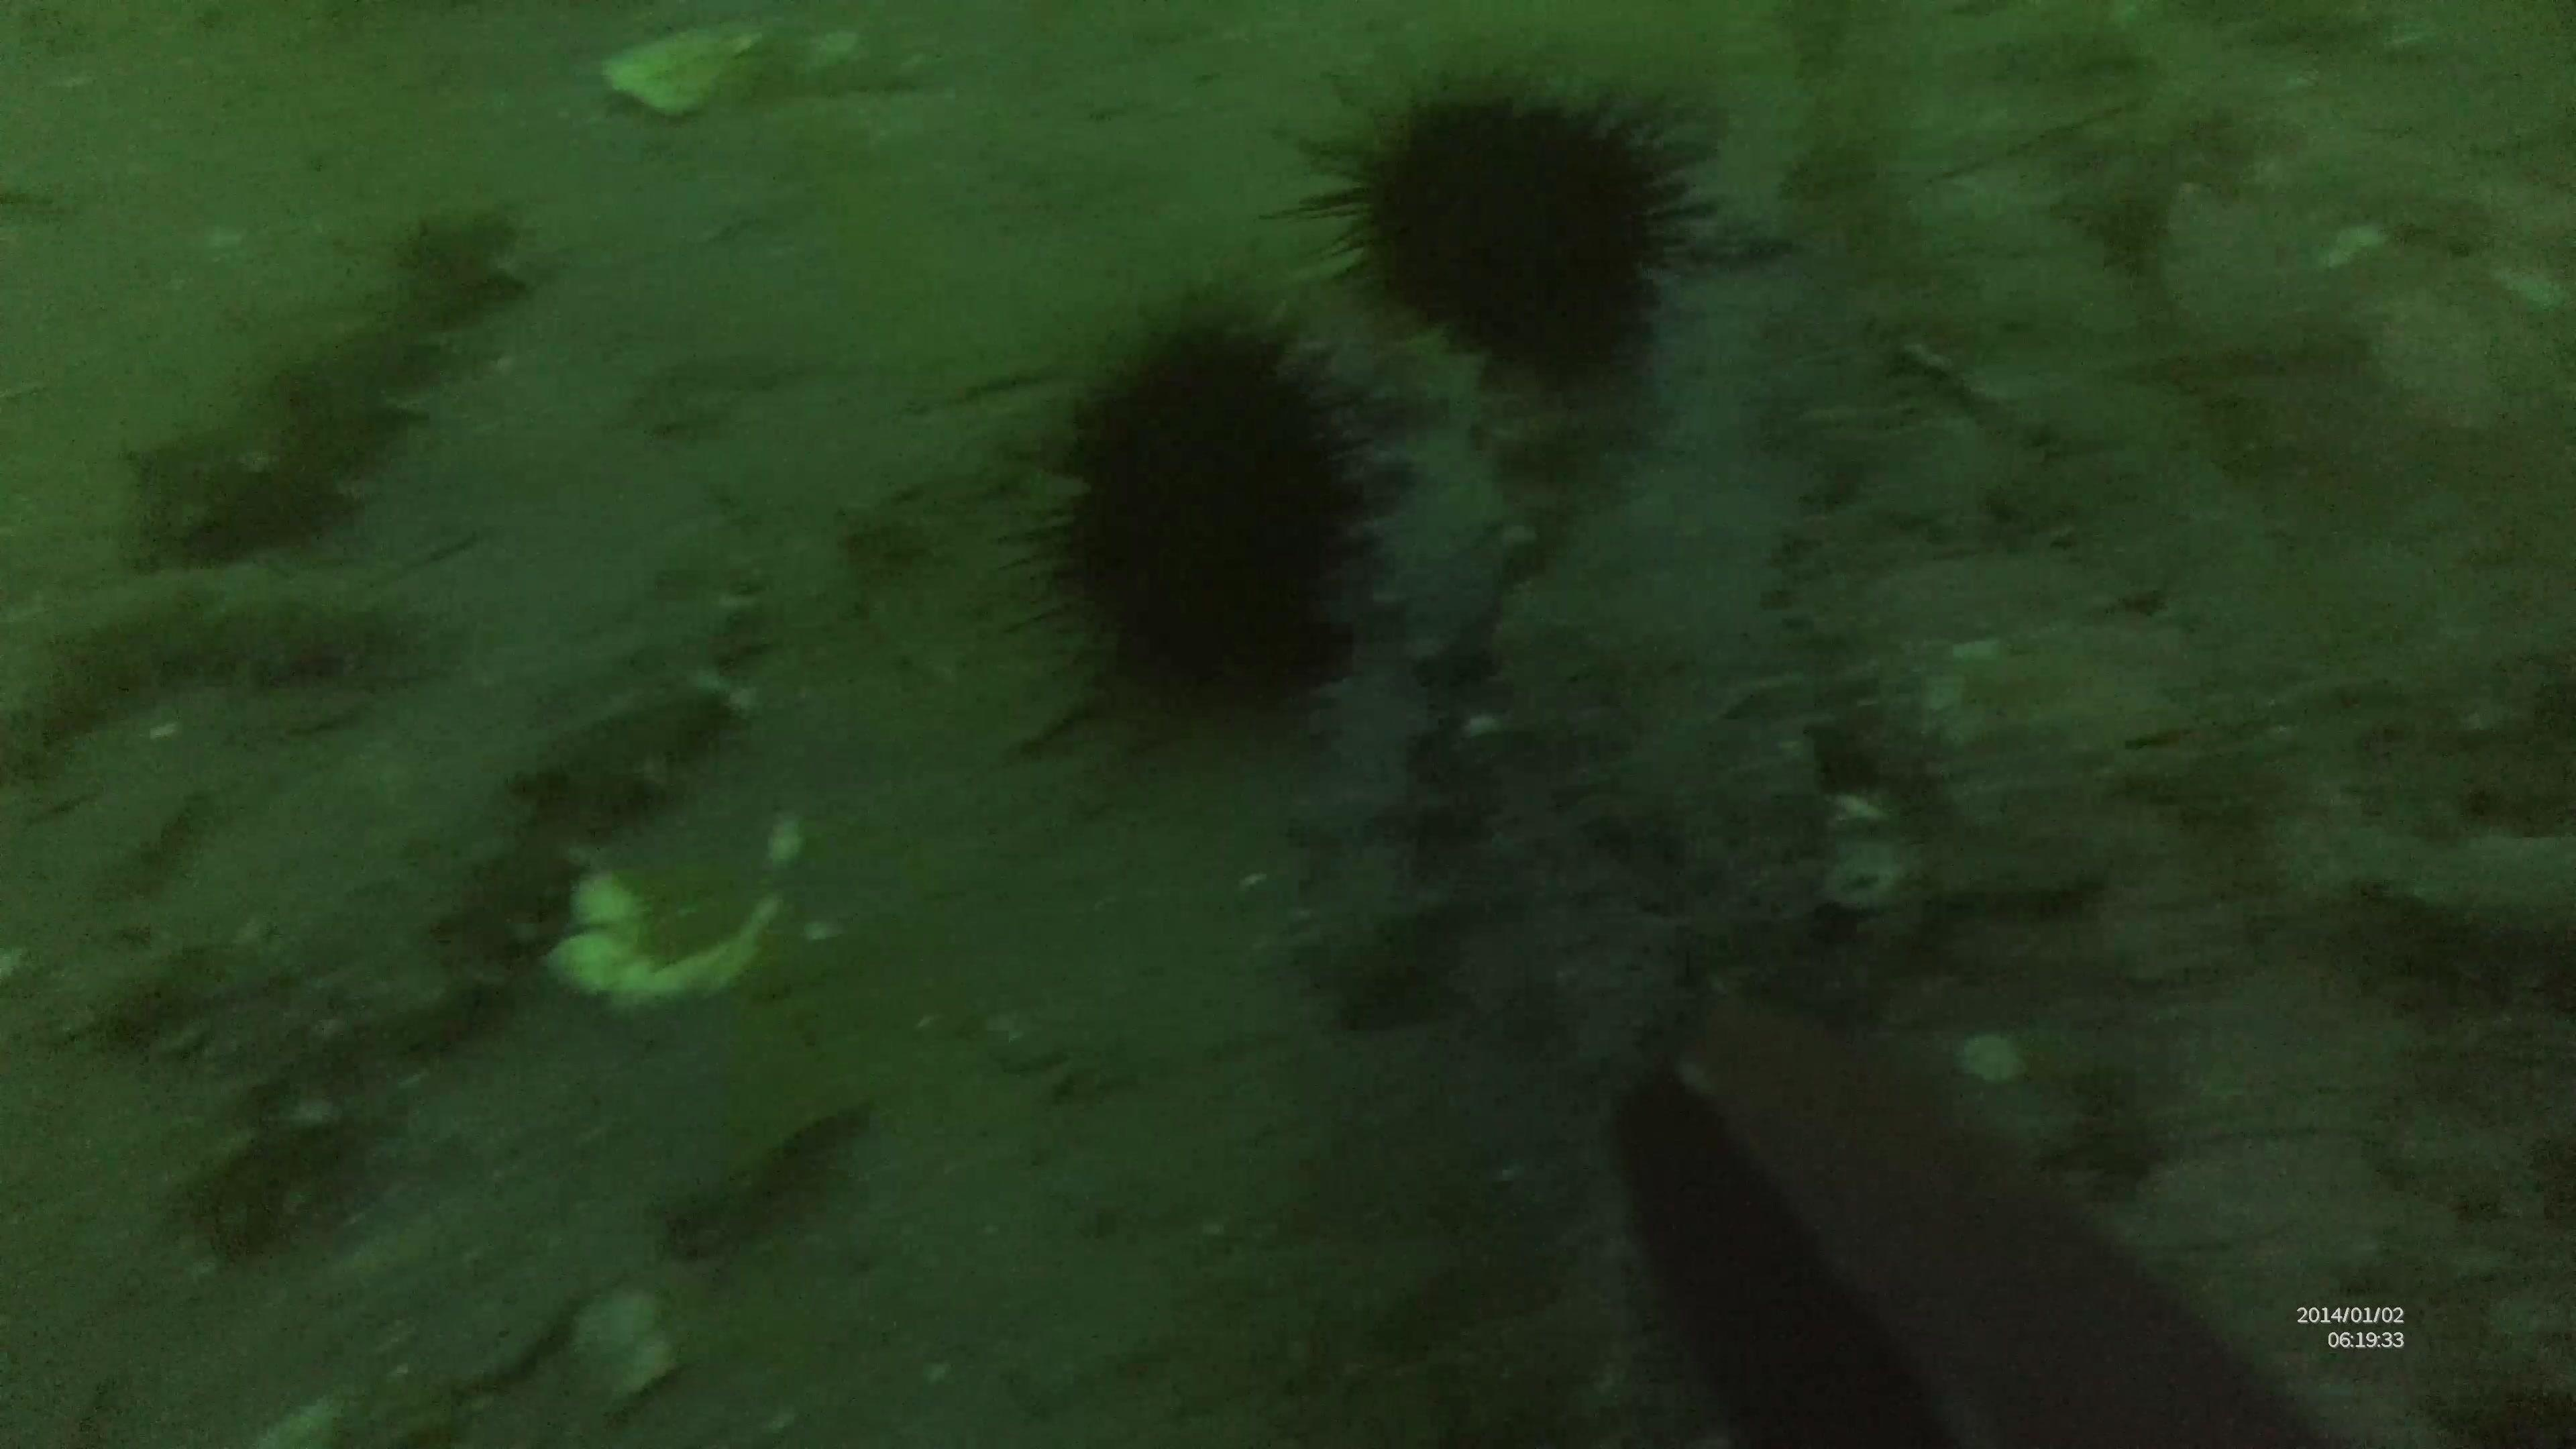echinus: (1023, 276, 1414, 701), (1292, 60, 1720, 396)
holothurian: (421, 541, 763, 1008), (120, 198, 536, 566), (1580, 658, 1835, 1026), (1760, 425, 2005, 796), (4, 566, 432, 757), (103, 934, 366, 1240), (1274, 646, 1456, 1039), (1361, 322, 1557, 674)
